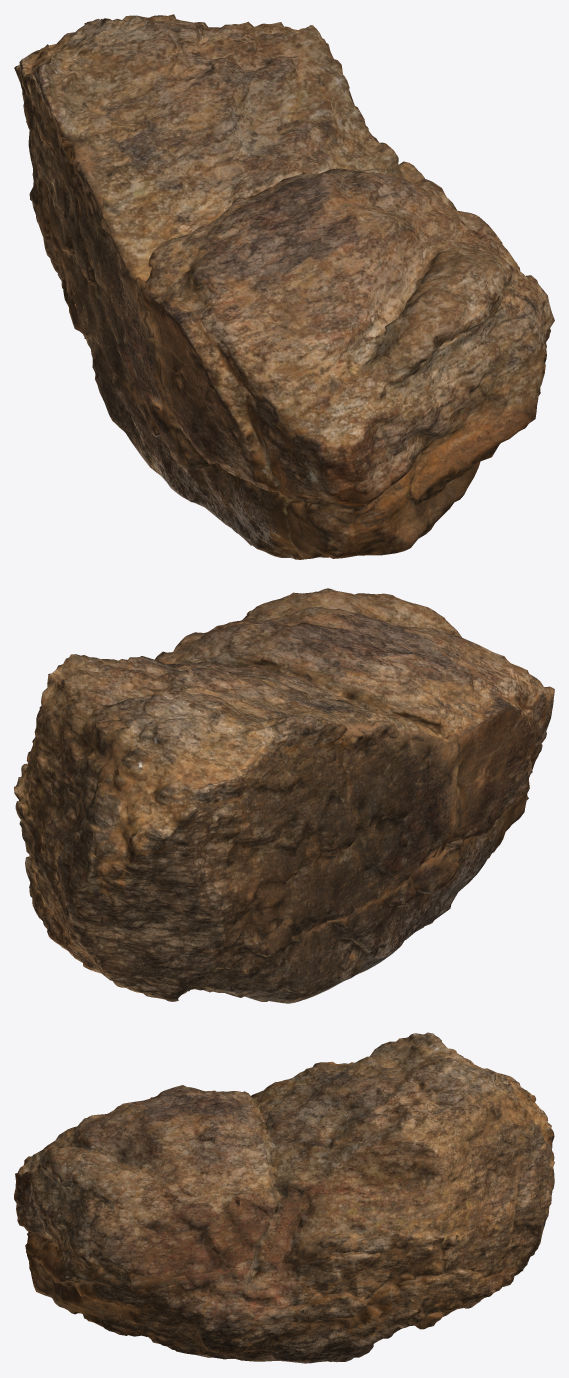
The model's file is desert_hero_boulder_e.glb.
3 views of the same model, one above another, from view 1: azimuth 30°, elevation 25°; view 2: azimuth 150°, elevation 25°; view 3: azimuth 270°, elevation 25° (orthographic). The views are drawn at different scales.
Parts seen in each view (by area): view 1: namaqualand_boulder_06; view 2: namaqualand_boulder_06; view 3: namaqualand_boulder_06.
Part boxes in pixels (bbox=[...]): namaqualand_boulder_06: bbox=[14, 14, 554, 559]; namaqualand_boulder_06: bbox=[14, 588, 554, 1003]; namaqualand_boulder_06: bbox=[14, 1032, 554, 1363].
Bounding box in the file's own units: 0.6747 × 0.6516 × 1.21.
1 material, 1 textured.
